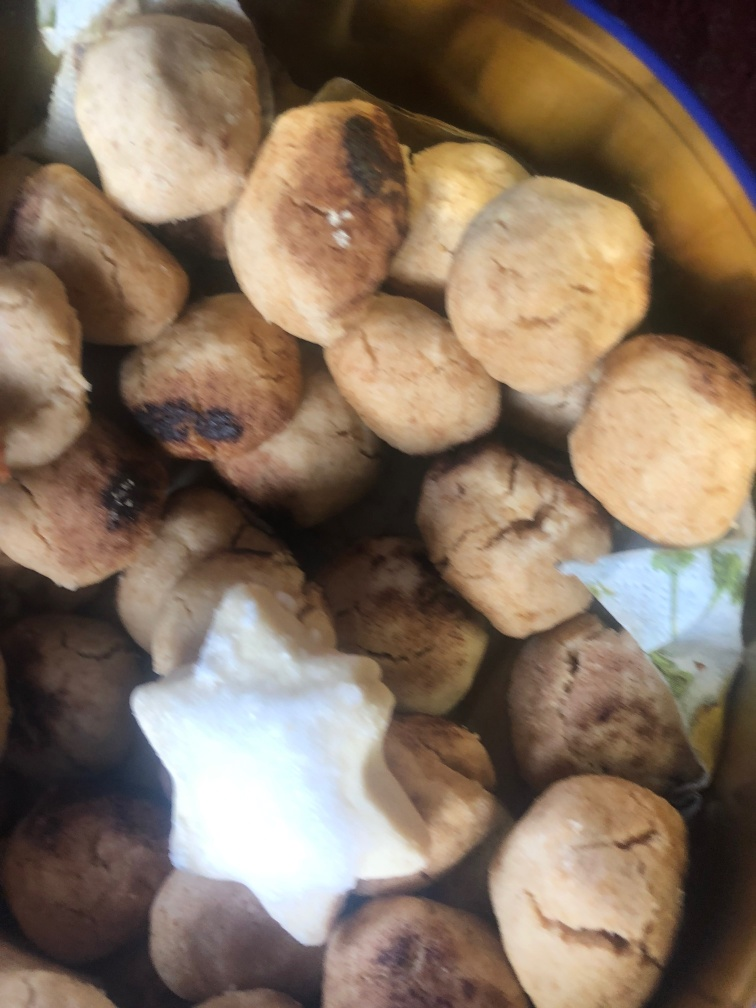snowball: (486, 777, 690, 1008), (443, 168, 655, 384), (230, 90, 408, 341), (567, 337, 750, 551), (73, 17, 261, 223), (420, 444, 609, 640), (322, 285, 511, 453), (113, 294, 304, 456), (7, 427, 162, 589)
star: (129, 579, 429, 946)
